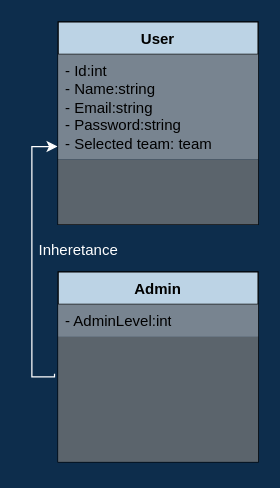
This 280x488 diagram has some shape labels left out. The shapes that lost their labels are listed below. From the top down, each one's centre as x and y in pixels, then its label:
point (158, 191): + login() + logout() + Select Team()
point (158, 398): + CreateTeam(Team) + RemoveTeam(Team) + ManageLeague()
